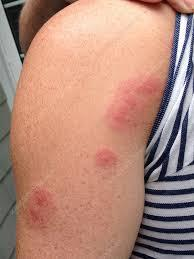Bed Bugs: (105, 66, 166, 139), (17, 184, 61, 232), (94, 147, 117, 169)
